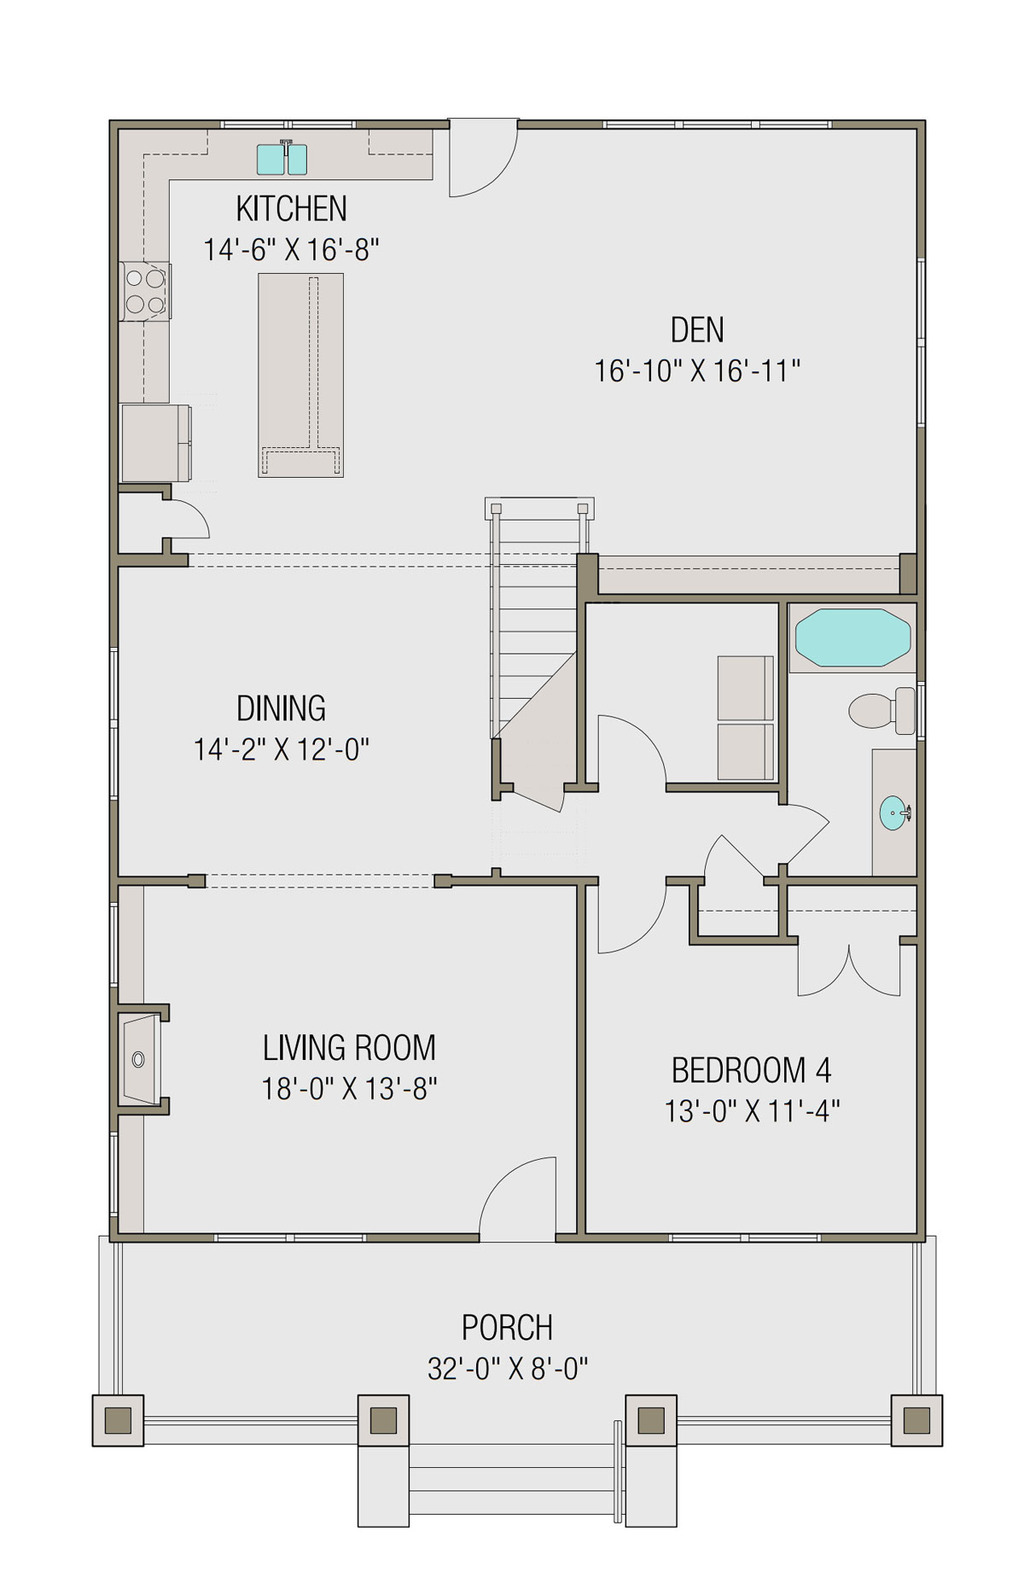door: (773, 927, 912, 999), (471, 1144, 568, 1246), (593, 880, 681, 966), (448, 105, 520, 207), (693, 832, 778, 895), (598, 715, 668, 790), (793, 802, 849, 873), (161, 495, 227, 546)
kitchen_bar: (227, 244, 376, 501)
large_sink: (830, 685, 934, 744)
small_sink: (873, 771, 920, 880)
stairs: (481, 493, 590, 780)
tub: (786, 600, 925, 675)
twin_sink: (258, 136, 314, 177)
